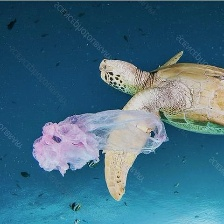plastic_bag: (29, 106, 173, 178)
